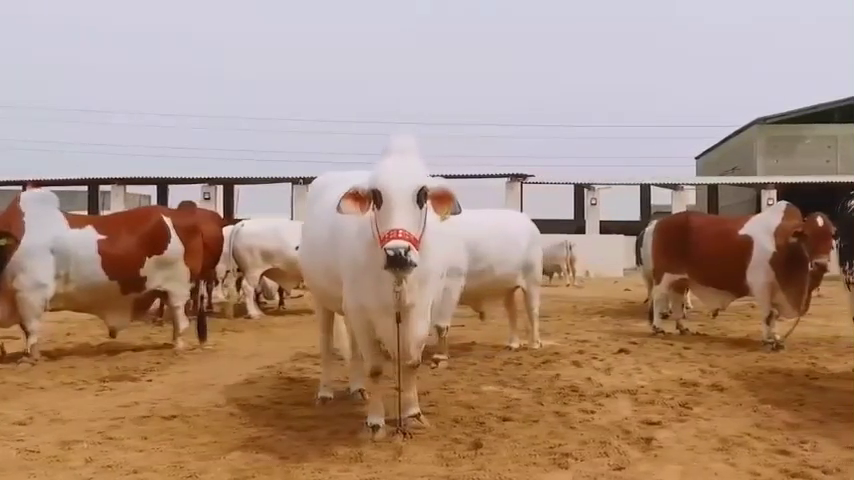bo: (296, 120, 442, 446), (631, 186, 846, 360), (3, 180, 194, 367), (424, 179, 551, 356), (223, 200, 298, 322), (536, 222, 586, 288)
